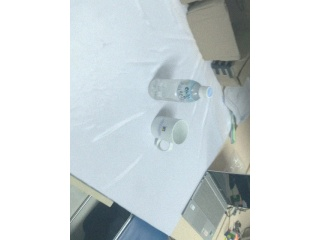bottle: (148, 78, 213, 103)
box: (187, 1, 249, 61)
cup: (150, 116, 189, 151)
